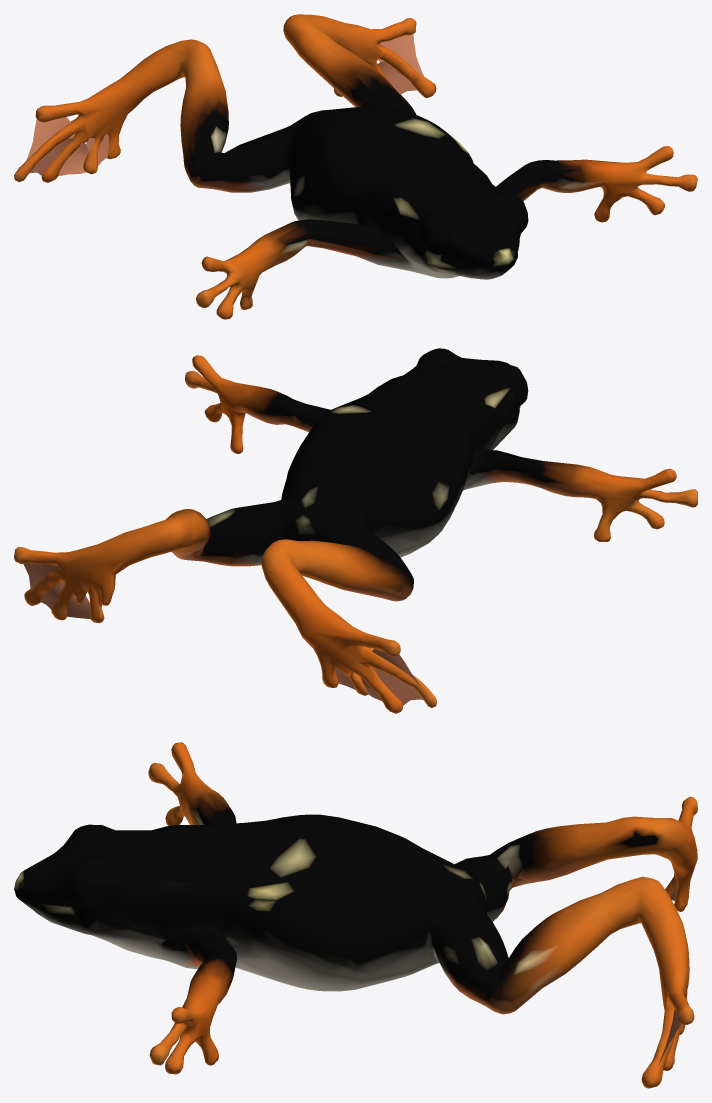
The model's file is reedfrog.swim.lo.glb.
3 renders of one model, top to bottom at view 1: azimuth 30°, elevation 25°; view 2: azimuth 150°, elevation 25°; view 3: azimuth 270°, elevation 25°, orthographic. The views are drawn at different scales.
Visible parts, largest first — view 1: reedfrog.swim; view 2: reedfrog.swim; view 3: reedfrog.swim.
Part boxes in pixels (box(x1,y1,x2,y2)): reedfrog.swim: box(14, 14, 697, 319); reedfrog.swim: box(14, 348, 697, 713); reedfrog.swim: box(14, 742, 697, 1088).
Bounding box in the file's own units: 0.0437 × 0.011 × 0.044.
